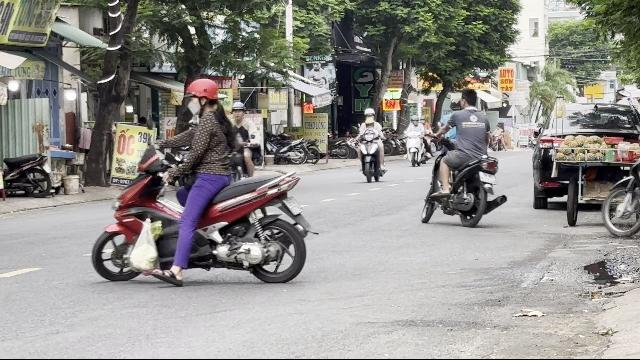helmet: (183, 79, 219, 120)
licenseplate: (479, 170, 497, 186)
motorcyclist: (94, 74, 314, 288), (420, 87, 506, 227)
nohelmet: (458, 87, 479, 108)
